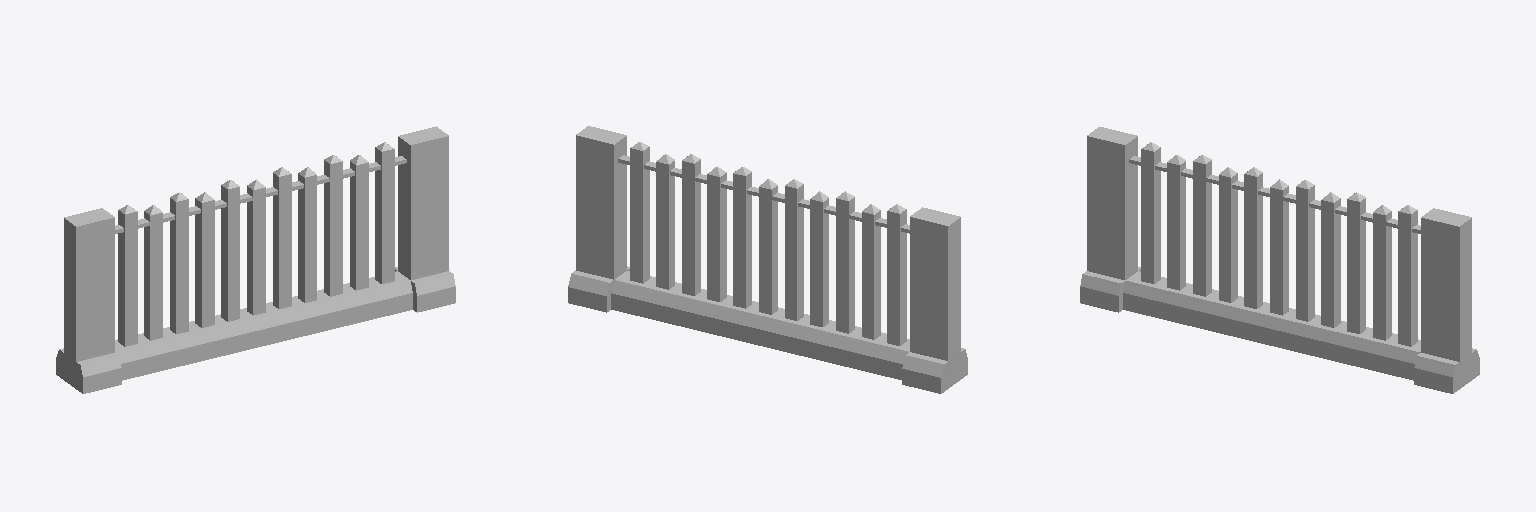
File: fence4.obj
3 renders of one model, left to right at view 1: azimuth 30°, elevation 25°; view 2: azimuth 150°, elevation 25°; view 3: azimuth 330°, elevation 25°, orthographic.
Parts seen in each view (by area): view 1: FenceLoop.001; view 2: FenceLoop.001; view 3: FenceLoop.001.
Part boxes in pixels (x1,y1,x2,y2): FenceLoop.001: (56, 126, 455, 393); FenceLoop.001: (568, 126, 967, 393); FenceLoop.001: (1080, 127, 1479, 393).
Bounding box in the file's own units: 3 × 1.28 × 0.376.